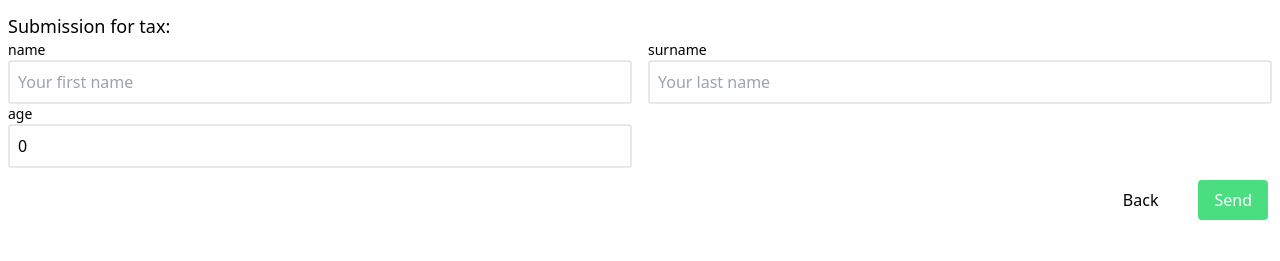
it: Submission form › should be show validation input
This screenshot has width=1280, height=261.
Click the button "Send". click: (1233, 200)
box: 1198,180 -> 1268,220
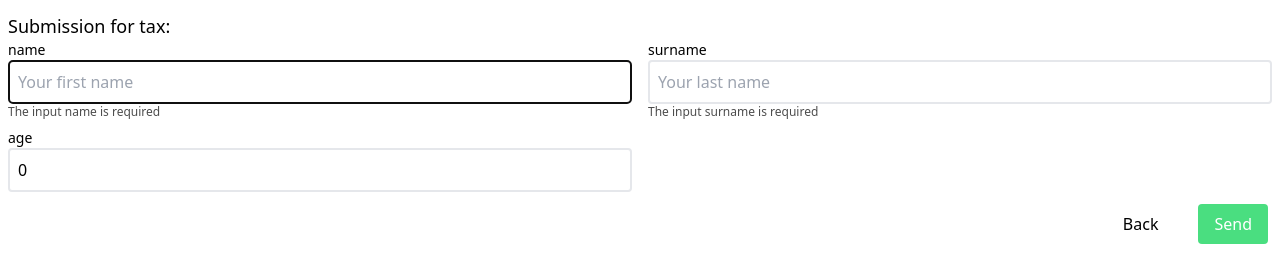
Expected: the number of messages is 2, 8,103 -> 160,120; 648,103 -> 818,120
